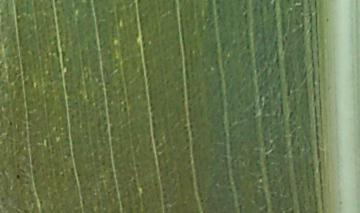tarspot: (15, 174, 21, 180)
